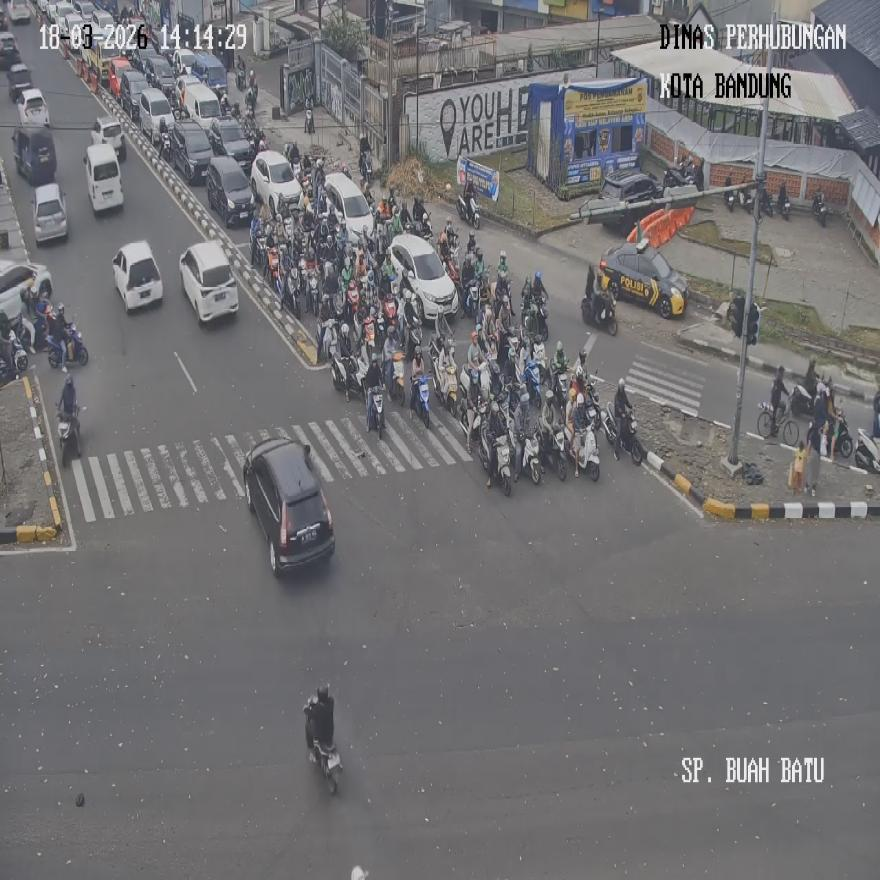Motor: (244, 436, 336, 574), (179, 240, 239, 323), (206, 155, 254, 229), (112, 239, 162, 310), (84, 142, 123, 214), (31, 182, 68, 243)
Truk: (304, 693, 343, 793), (606, 402, 645, 463), (45, 323, 88, 369), (756, 400, 798, 446), (487, 430, 514, 496), (572, 422, 600, 481), (331, 350, 363, 400), (582, 288, 616, 335), (56, 403, 80, 467), (828, 410, 854, 460), (522, 427, 544, 485), (854, 429, 880, 473), (281, 269, 303, 319), (410, 374, 430, 428), (437, 363, 457, 417), (456, 190, 480, 228), (316, 318, 336, 363), (790, 382, 816, 416), (366, 386, 384, 435), (524, 358, 542, 405), (389, 353, 405, 405), (412, 201, 433, 240), (266, 246, 282, 292), (463, 278, 480, 321), (531, 297, 548, 340), (306, 268, 319, 314), (812, 190, 827, 228), (360, 152, 374, 188), (757, 188, 773, 218), (777, 188, 790, 221), (724, 182, 737, 213), (304, 107, 313, 134)
